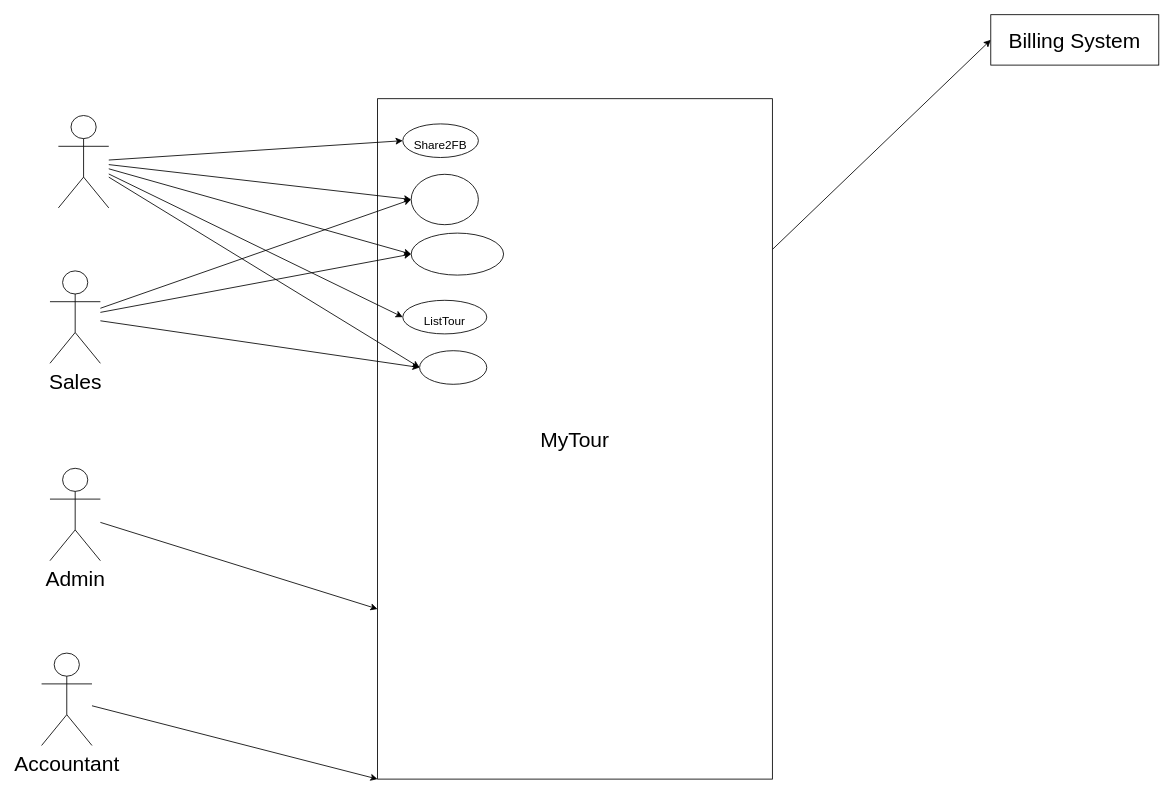
This 1173x801 diagram has some shape labels left out. Each missing label, with the centre of its shape:
"AddParticipant" belongs at point 457,253.
"BookTour" belongs at point 444,199.
"Customers" belongs at point 83,161.
"ViewTour" belongs at point 453,367.
